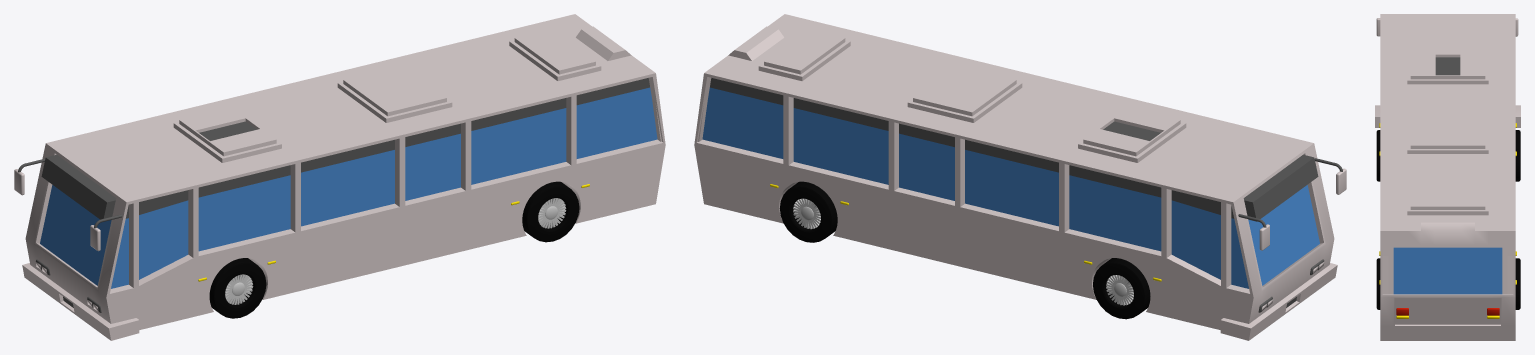
File: przeszkoda4.fbx
3 views of the same model, side by side, from view 1: azimuth 30°, elevation 25°; view 2: azimuth 150°, elevation 25°; view 3: azimuth 270°, elevation 25° (orthographic). The views are drawn at different scales.
Visible parts, largest first — view 1: bus; view 2: bus; view 3: bus.
Boxes of the visible parts, x1,y1,x2,y2 form: bus: (14, 14, 665, 340); bus: (694, 14, 1346, 340); bus: (1375, 14, 1520, 340).
Size of the model in its own units: 1141 by 288 by 301.
